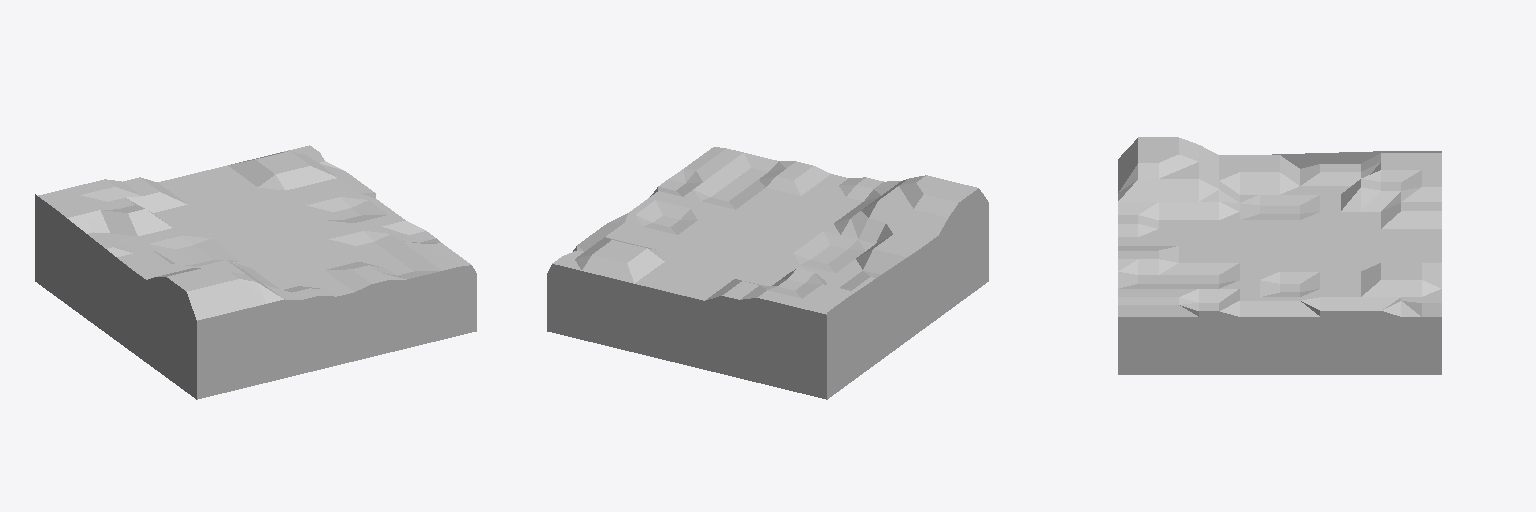
The model's file is cenario2.obj.
3 views of the same model, side by side, from view 1: azimuth 30°, elevation 25°; view 2: azimuth 150°, elevation 25°; view 3: azimuth 270°, elevation 25° (orthographic).
Parts seen in each view (by area): view 1: base_relevo2_Cube.003; view 2: base_relevo2_Cube.003; view 3: base_relevo2_Cube.003.
Boxes of the visible parts, box(x1,y1,x2,y2) form: base_relevo2_Cube.003: box(35, 145, 476, 399); base_relevo2_Cube.003: box(547, 147, 988, 399); base_relevo2_Cube.003: box(1118, 137, 1441, 374).
Bounding box in the file's own units: 2 × 0.6863 × 2.